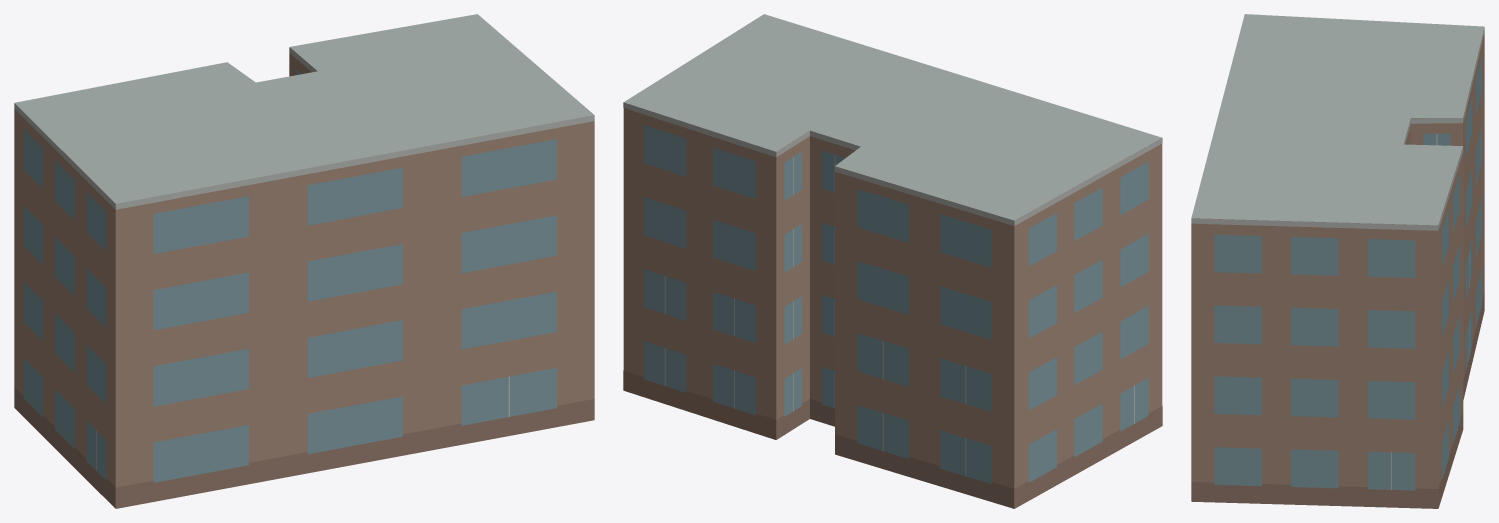
File: survey-upis-32662478.glb
3 renders of one model, left to right at view 1: azimuth 30°, elevation 25°; view 2: azimuth 150°, elevation 25°; view 3: azimuth 270°, elevation 25°, orthographic. The views are drawn at different scales.
Parts seen in each view (by area): view 1: survey-upis-32662478.tmp; view 2: survey-upis-32662478.tmp; view 3: survey-upis-32662478.tmp.
Boxes of the visible parts, bbox=[...] form: survey-upis-32662478.tmp: bbox=[14, 14, 594, 508]; survey-upis-32662478.tmp: bbox=[623, 14, 1162, 508]; survey-upis-32662478.tmp: bbox=[1191, 14, 1484, 508].
Bounding box in the file's own units: 20.32 × 12.7 × 11.92.
